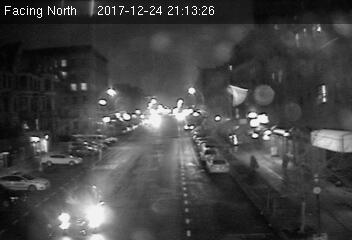car: (58, 184, 111, 233), (207, 156, 230, 174)
